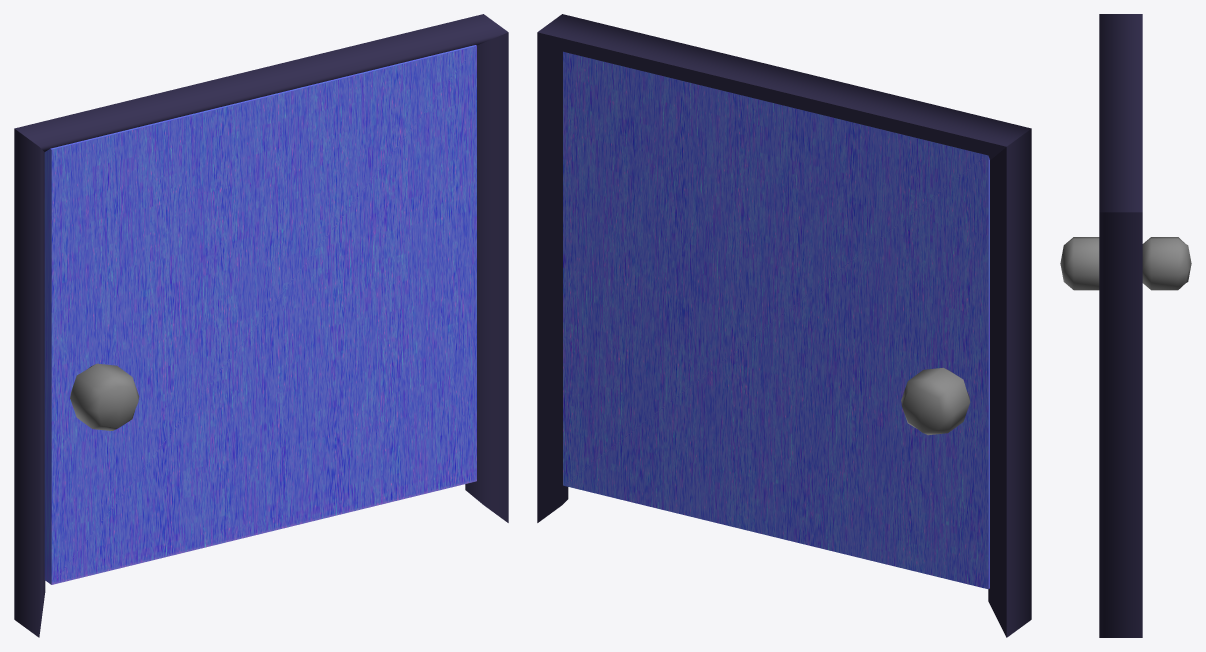
File: Furniture_CrawlSpaceDoorModel.fbx
3 renders of one model, left to right at view 1: azimuth 30°, elevation 25°; view 2: azimuth 150°, elevation 25°; view 3: azimuth 270°, elevation 25°, orthographic. The views are drawn at different scales.
Parts seen in each view (by area): view 1: pCube1, pCube2, pCube3; view 2: pCube1, pCube2, pCube5; view 3: pCube2, pCube5, pCube3.
Boxes of the visible parts, x1,y1,x2,y2 form: pCube1: (44,45,476,584); pCube2: (14,14,508,637); pCube3: (70,363,139,430); pCube1: (563,51,989,589); pCube2: (537,14,1031,637); pCube5: (901,367,970,435); pCube2: (1099,14,1142,637); pCube5: (1142,237,1191,290); pCube3: (1060,237,1099,290).
Bounding box in the file's own units: 2.33 × 2.33 × 0.6513.
3 materials, 1 textured.
